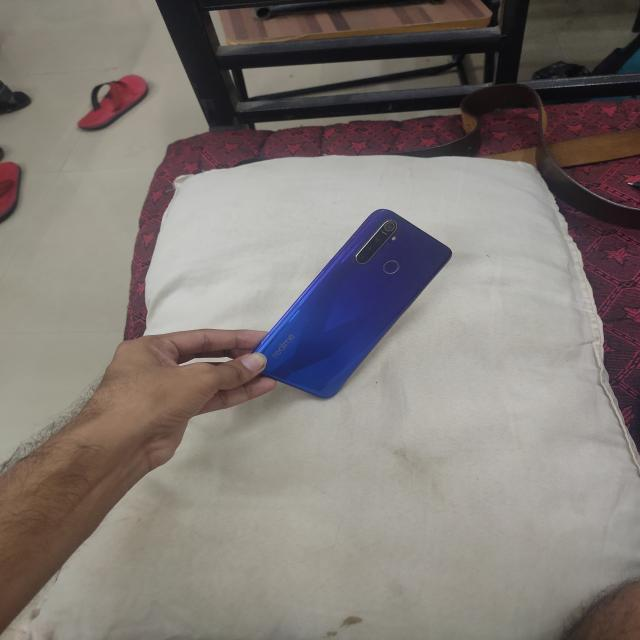Phone: (241, 205, 456, 403)
